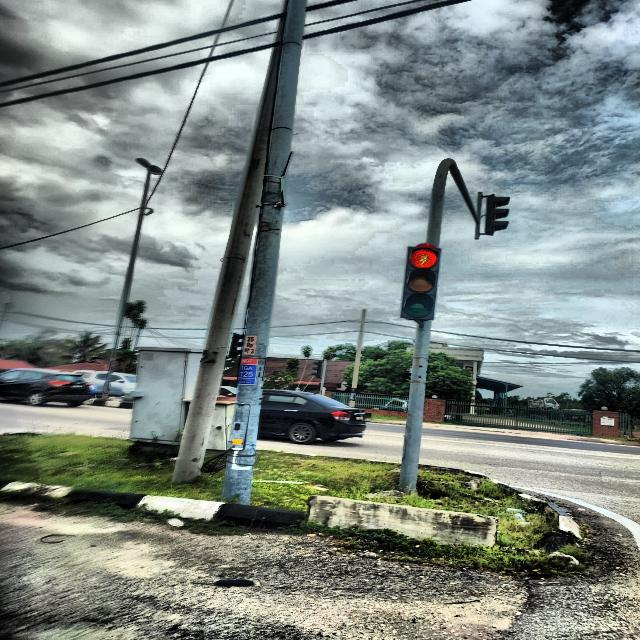red: (400, 243, 441, 320)
